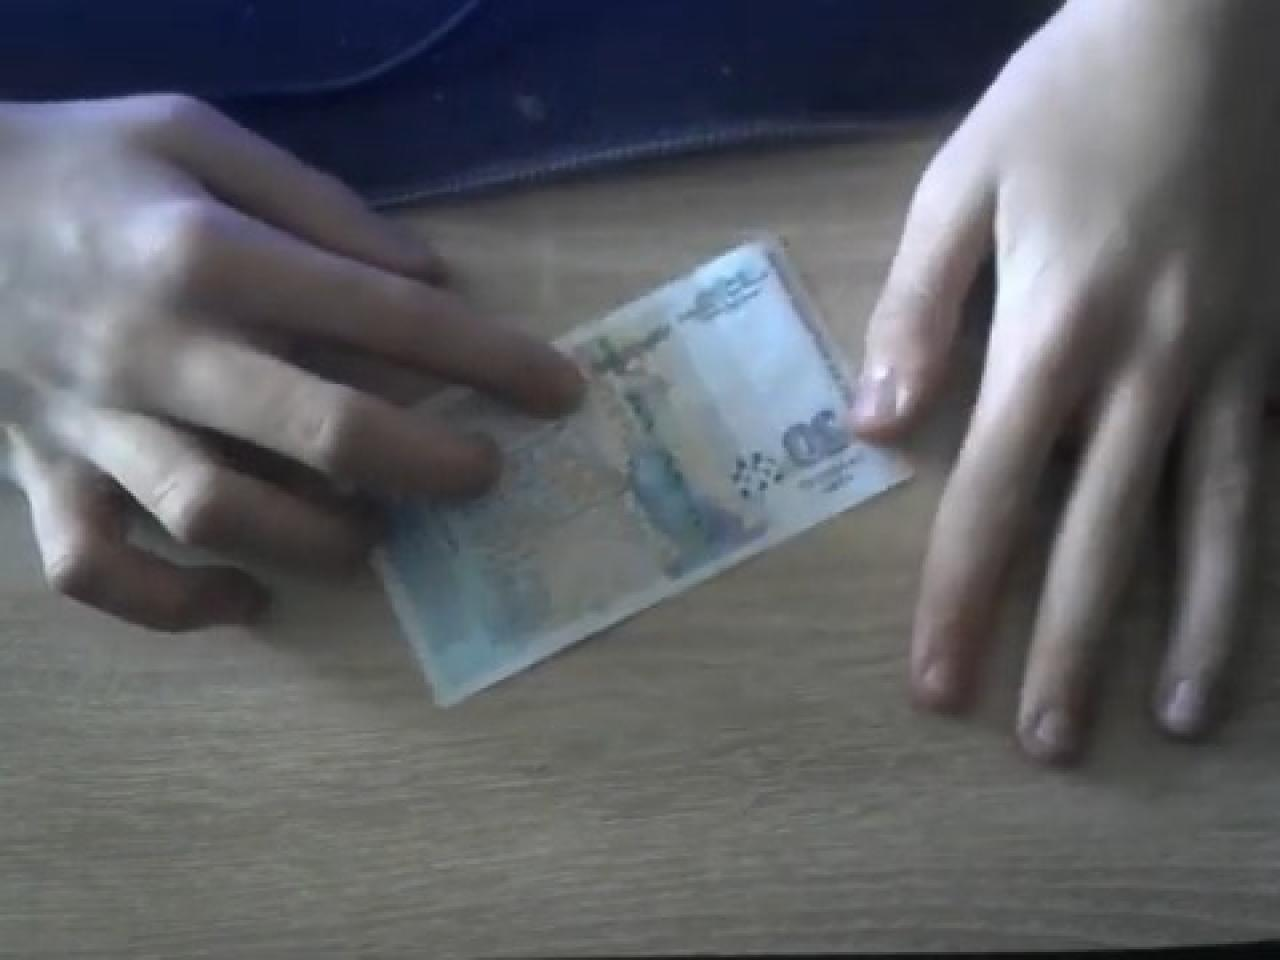20leva: (371, 240, 912, 709)
